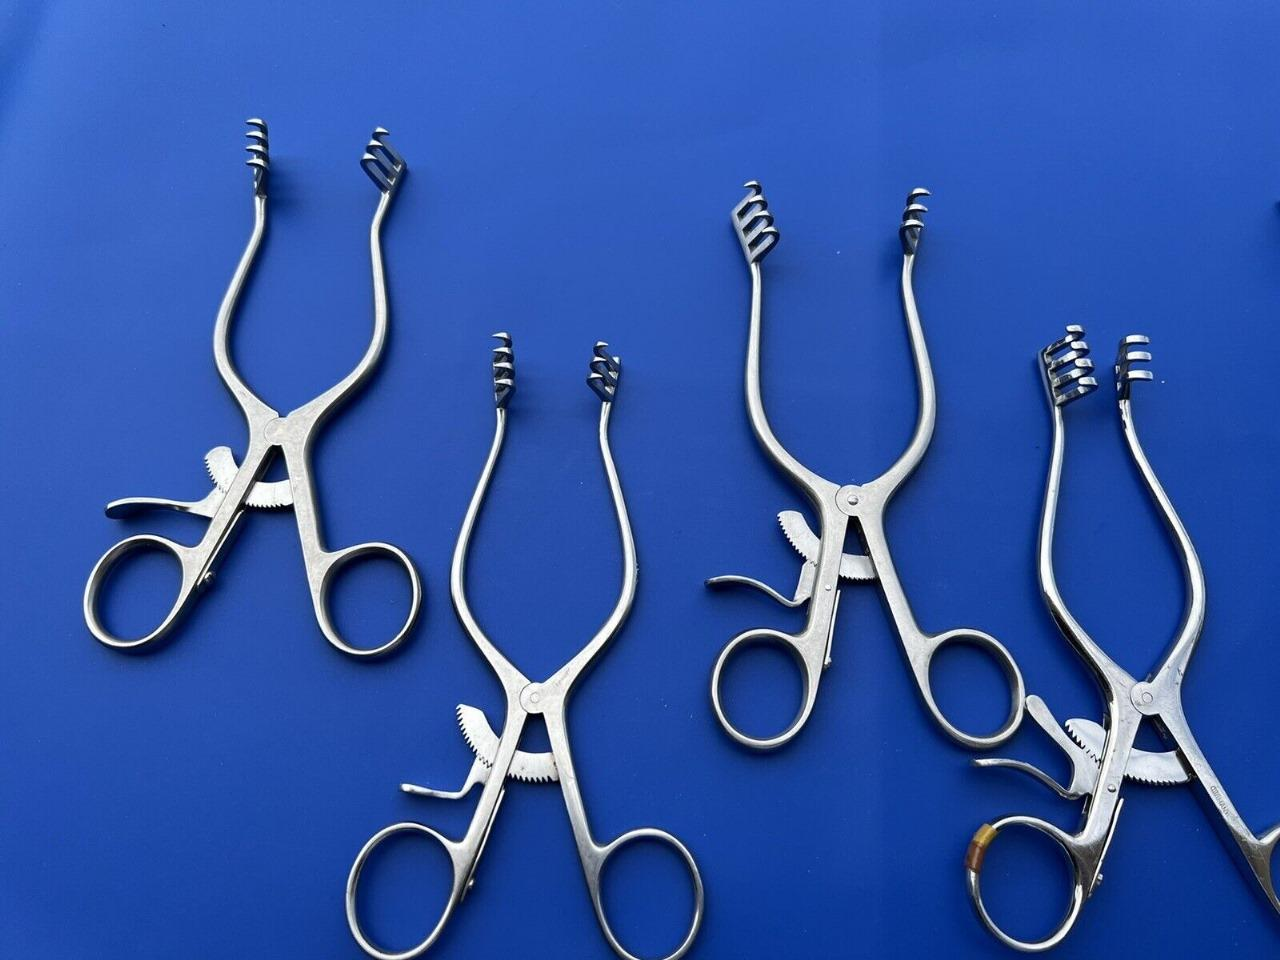Self Retractor: (335, 336, 705, 960), (945, 301, 1280, 957), (700, 164, 1024, 761), (85, 102, 427, 665)
